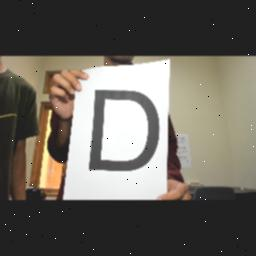d: (82, 86, 162, 174)
